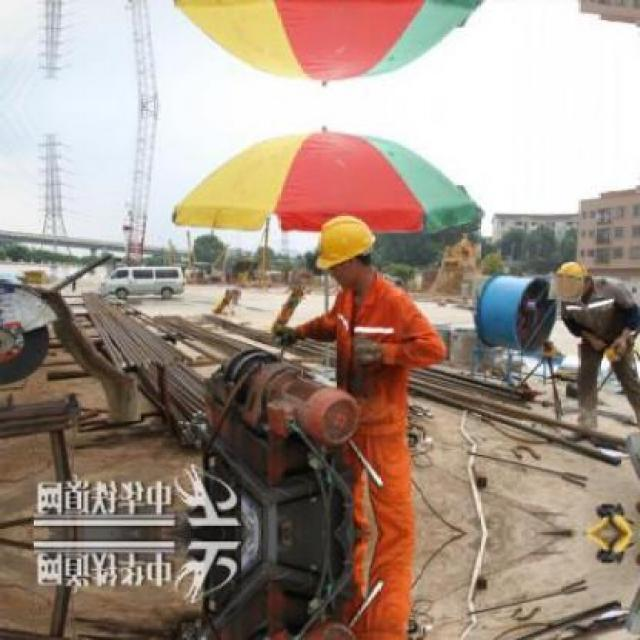Reflective-Jacket: (322, 279, 432, 441), (560, 287, 638, 372)
Safety-Helmet: (303, 208, 388, 278), (545, 254, 600, 308)
